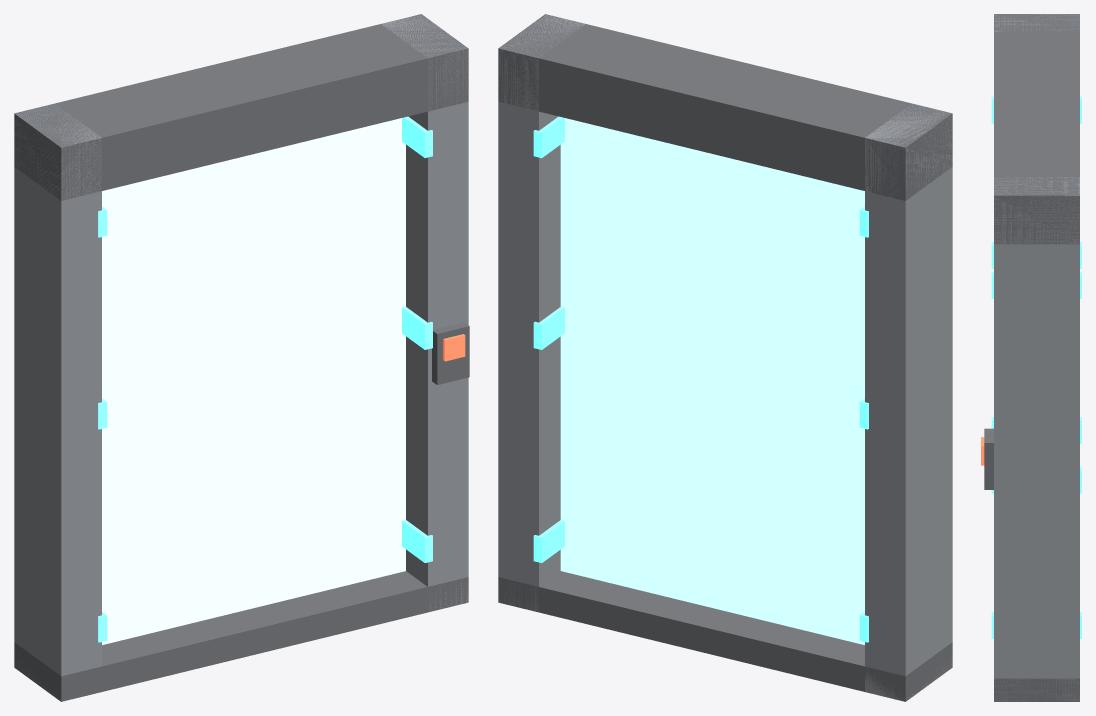
File: SM_ForceField_Cell.glb
The picture shows the model from 3 angles, left to right: view 1: azimuth 30°, elevation 25°; view 2: azimuth 150°, elevation 25°; view 3: azimuth 270°, elevation 25°; orthographic projection. The views are drawn at different scales.
Parts seen in each view (by area): view 1: SM_ForceField_Cell; view 2: SM_ForceField_Cell; view 3: SM_ForceField_Cell.
Part boxes in pixels (box(x1,y1,x2,y2)): SM_ForceField_Cell: box(14, 14, 469, 701); SM_ForceField_Cell: box(498, 14, 952, 701); SM_ForceField_Cell: box(981, 14, 1081, 701).
Bounding box in the file's own units: 2 × 2.6 × 0.47.
